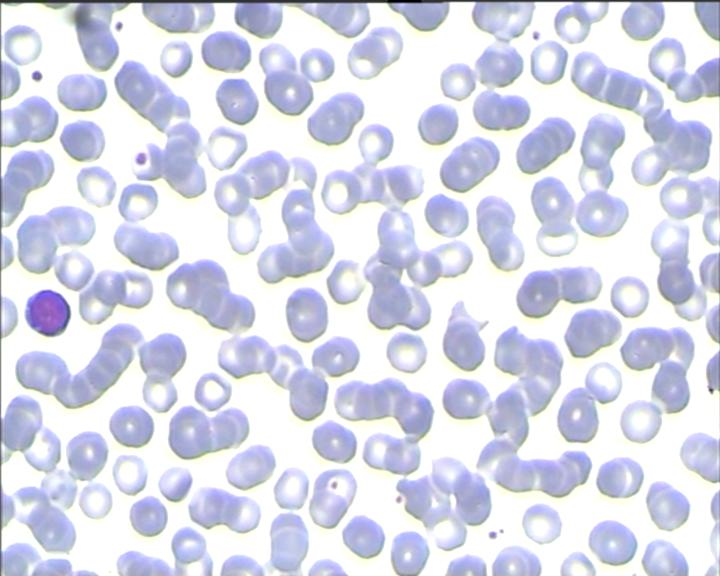lymp: (22, 286, 75, 342)
